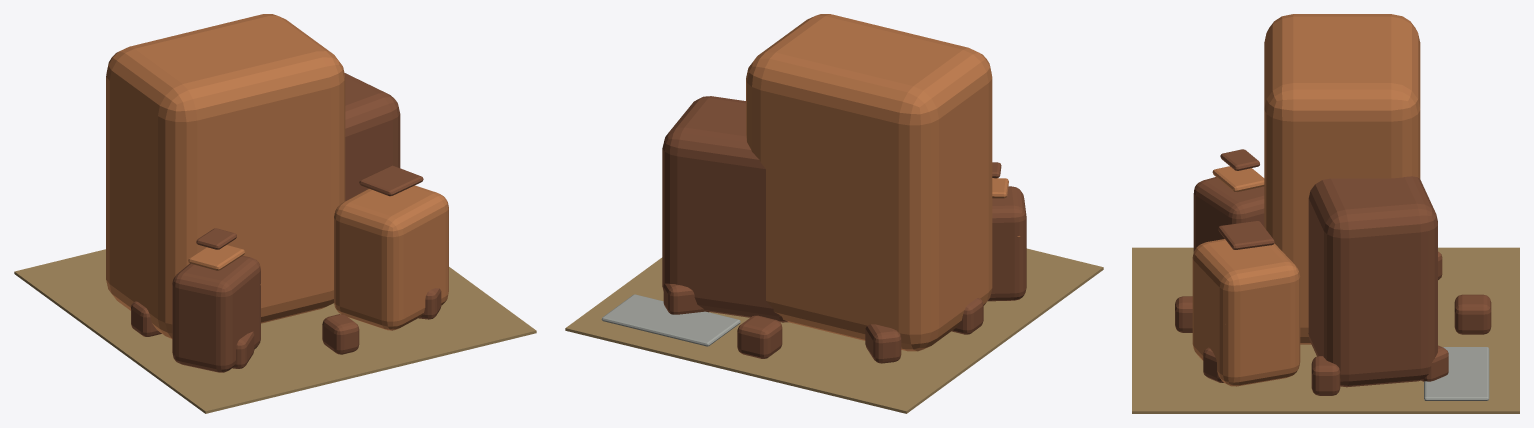
The model's file is rorng_city_infill_red_mesa_19m.glb.
3 renders of one model, left to right at view 1: azimuth 30°, elevation 25°; view 2: azimuth 150°, elevation 25°; view 3: azimuth 270°, elevation 25°, orthographic. The views are drawn at different scales.
Parts seen in each view (by area): view 1: rorng_city_infill_red_mesa_19m_lod0; view 2: rorng_city_infill_red_mesa_19m_lod0; view 3: rorng_city_infill_red_mesa_19m_lod0.
Boxes of the visible parts, x1=… form: rorng_city_infill_red_mesa_19m_lod0: x1=14, y1=14, x2=536, y2=413; rorng_city_infill_red_mesa_19m_lod0: x1=565, y1=14, x2=1103, y2=413; rorng_city_infill_red_mesa_19m_lod0: x1=1132, y1=14, x2=1519, y2=413.
Size of what is drawn, in the model's own units: 19 by 14.14 by 19.
